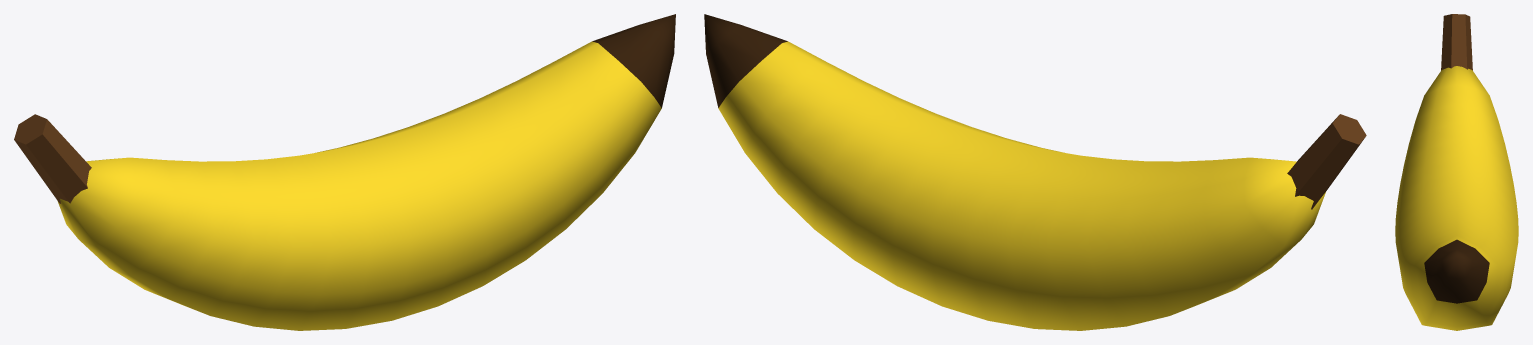
Rendered from Banana.fbx.
The picture shows the model from 3 angles, left to right: view 1: azimuth 30°, elevation 25°; view 2: azimuth 150°, elevation 25°; view 3: azimuth 270°, elevation 25°; orthographic projection. The views are drawn at different scales.
Parts seen in each view (by area): view 1: Banana; view 2: Banana; view 3: Banana.
Boxes of the visible parts, bbox=[...] form: Banana: bbox=[14, 14, 675, 330]; Banana: bbox=[704, 14, 1366, 330]; Banana: bbox=[1395, 14, 1518, 330].
Bounding box in the file's own units: 0.2001 × 0.0784 × 0.0479.
